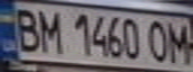0: (121, 16, 145, 61)
1: (66, 9, 93, 56)
4: (87, 11, 109, 57)
6: (106, 12, 127, 60)
B: (9, 5, 42, 53)
M: (33, 6, 66, 54), (163, 19, 193, 65)
O: (145, 17, 172, 64)
